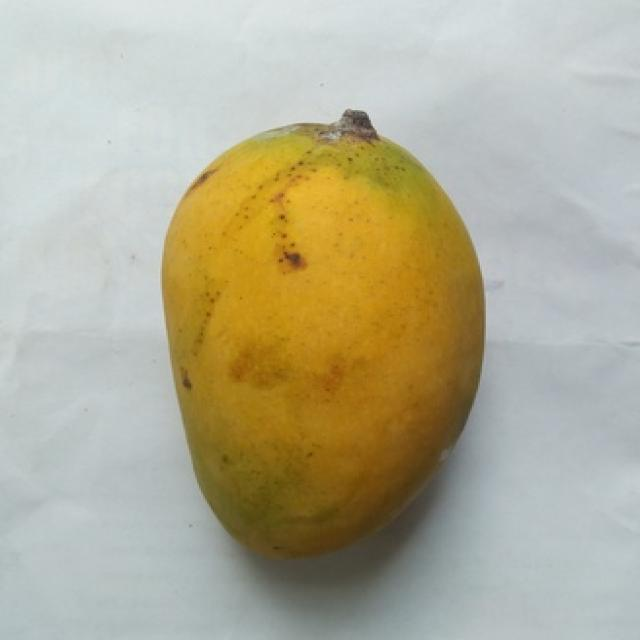Mango: (162, 112, 484, 555)
